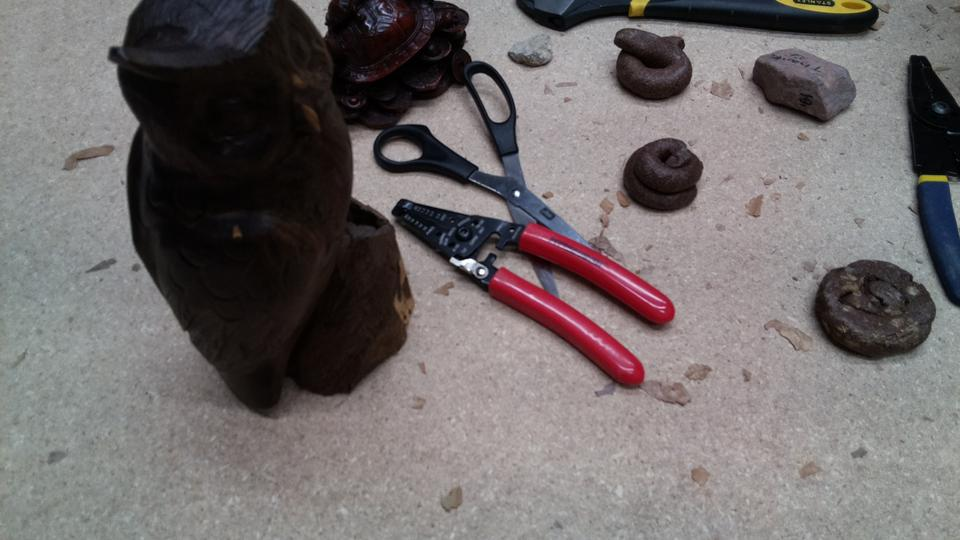poop: (811, 257, 939, 361), (618, 134, 706, 216), (610, 25, 694, 104)
